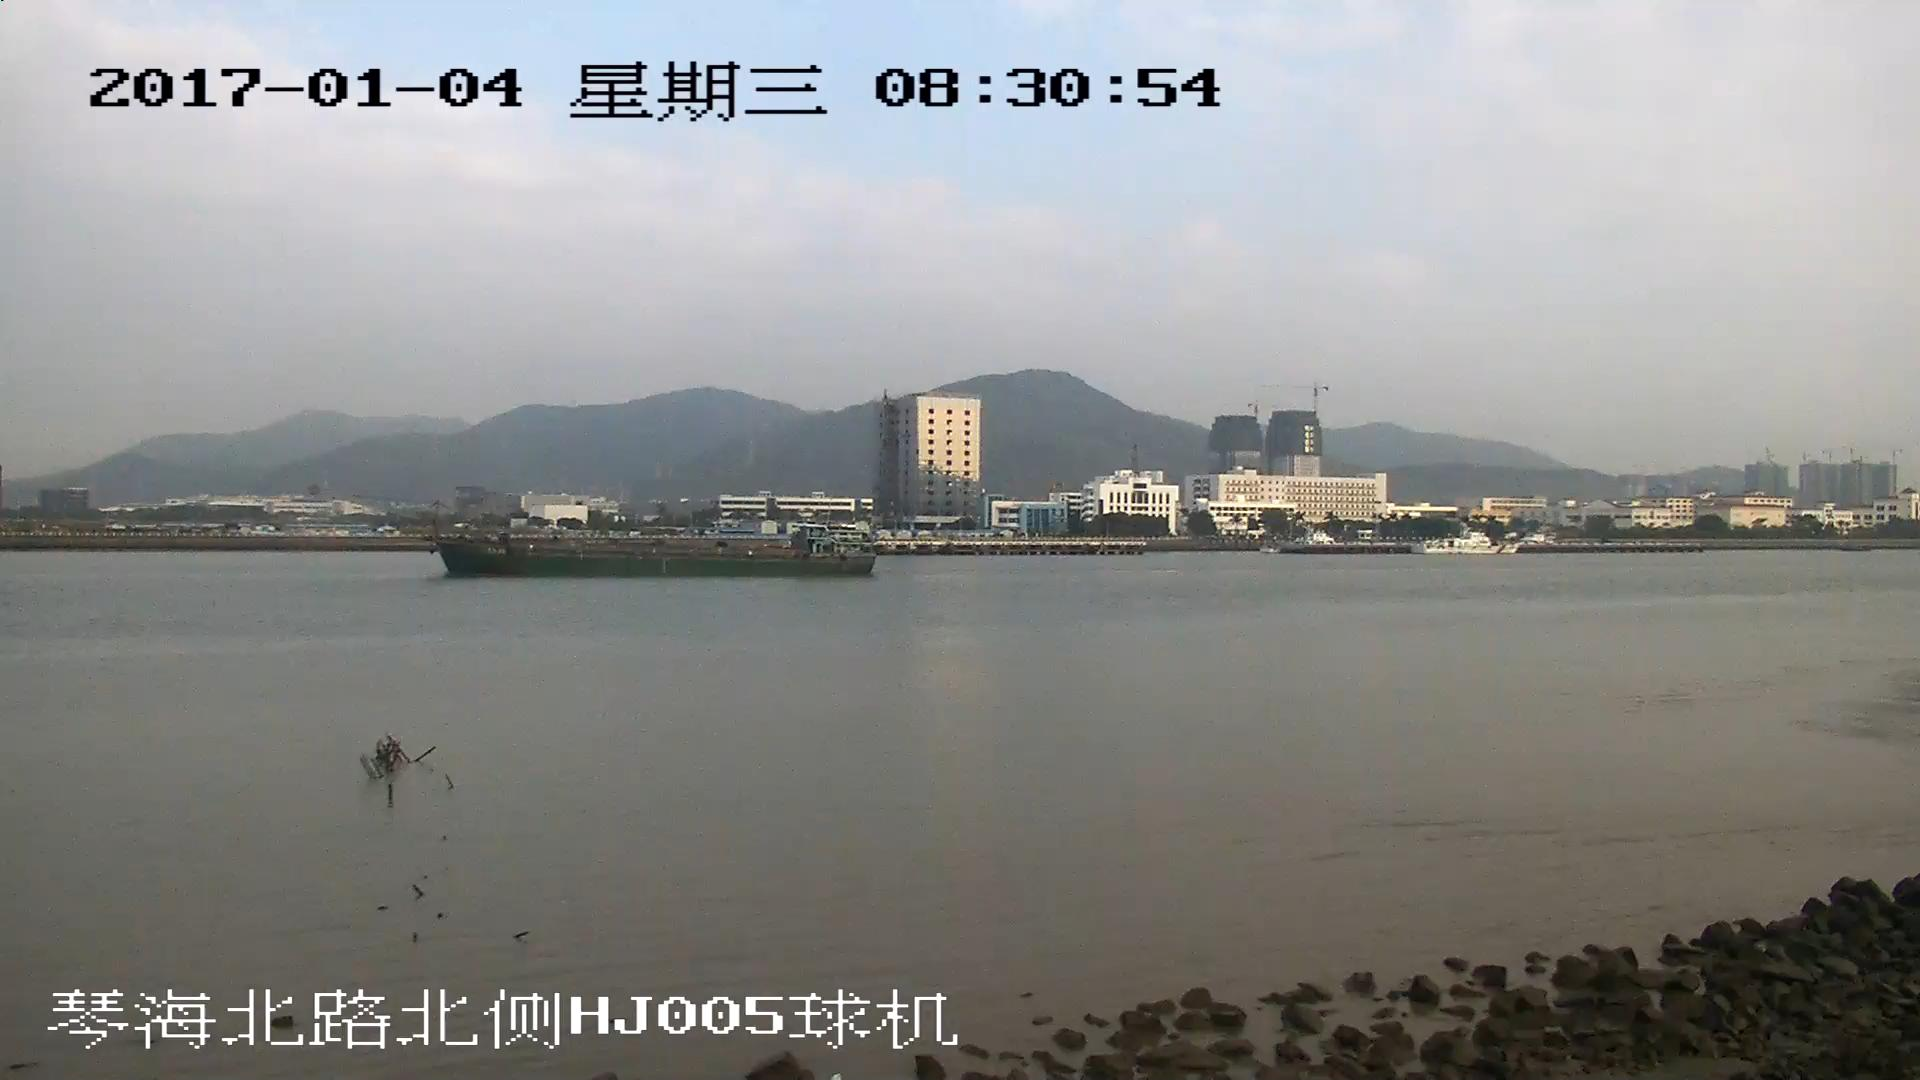bulk cargo carrier: (427, 503, 874, 575)
